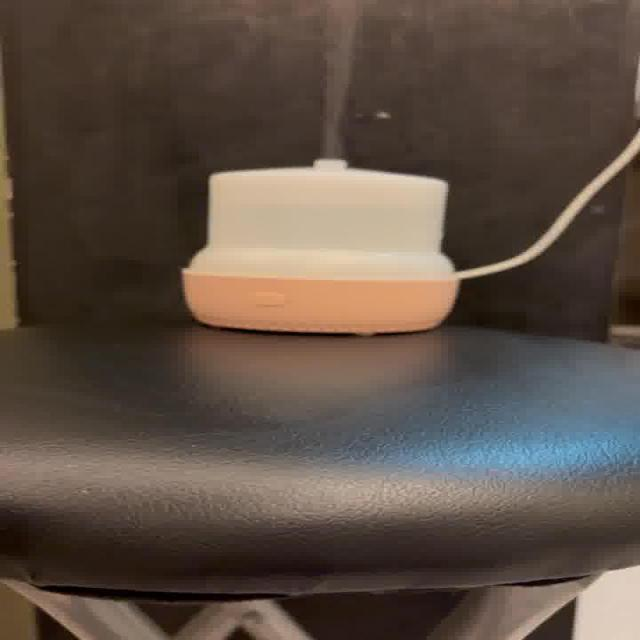fire: (316, 0, 362, 158)
